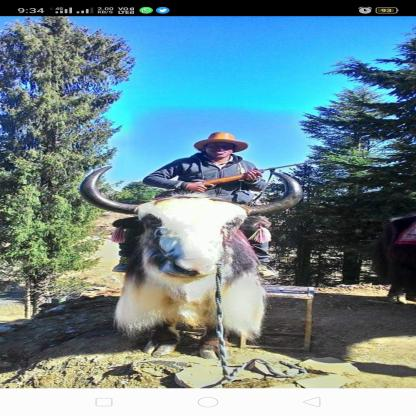rifle: (153, 158, 325, 201)
